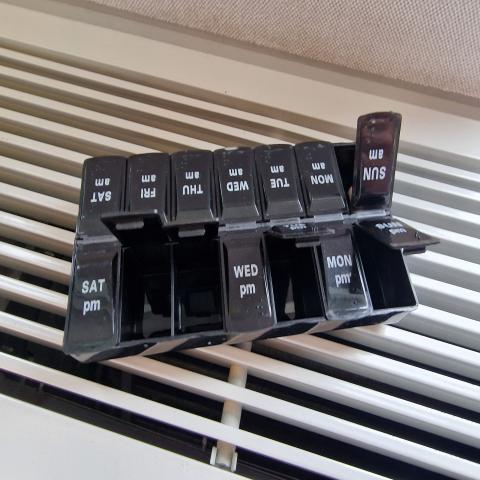Open: (104, 213, 172, 344), (167, 219, 224, 336), (266, 231, 336, 322), (355, 223, 419, 311), (336, 116, 360, 206)
